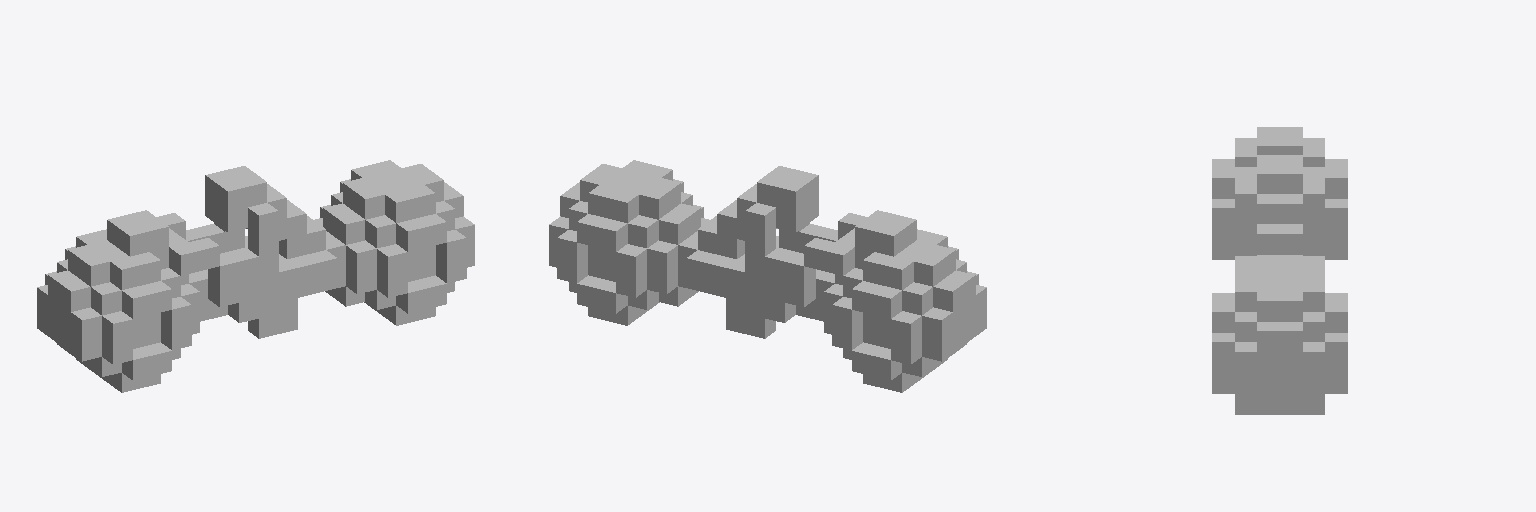
The model's file is Bike.obj.
3 renders of one model, left to right at view 1: azimuth 30°, elevation 25°; view 2: azimuth 150°, elevation 25°; view 3: azimuth 270°, elevation 25°, orthographic.
Visible parts, largest first — view 1: object 1; view 2: object 1; view 3: object 1.
Boxes of the visible parts, box(x1,y1,x2,y2) form: object 1: box(37, 160, 474, 392); object 1: box(549, 160, 986, 392); object 1: box(1212, 127, 1347, 414).
Bounding box in the file's own units: 2 × 0.8 × 0.6.